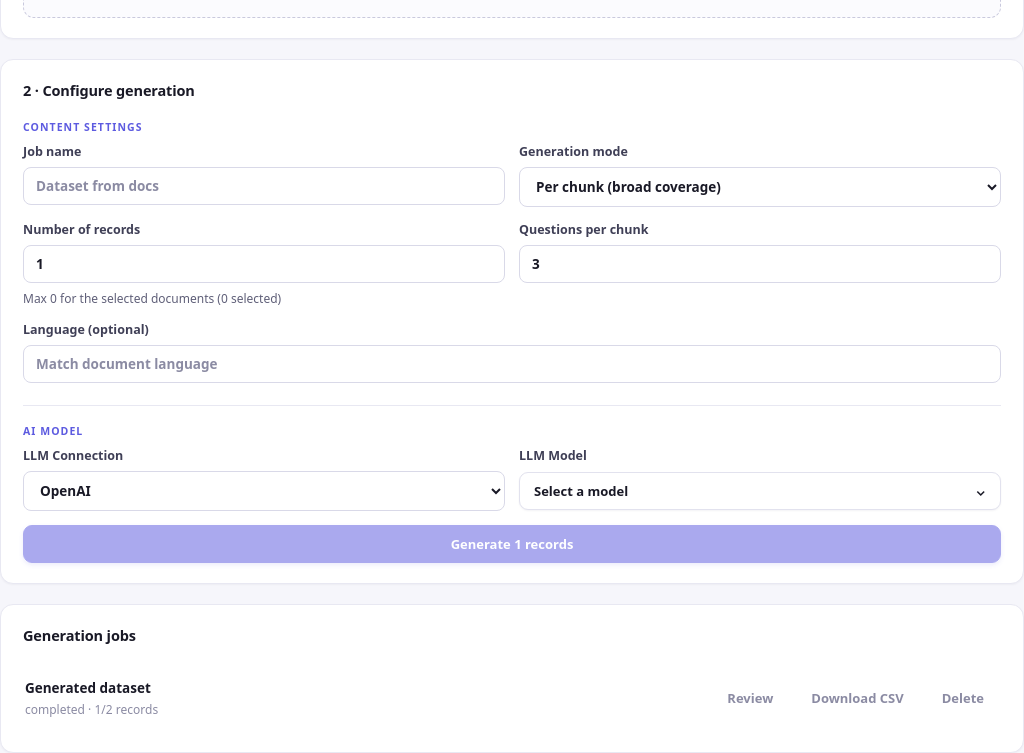
it: GenerateWizard › shows per-unit failures and accessible review controls
(page scrolled)
Click the button "Review" at (750, 699), box top-left (712, 682), bottom-right (788, 715)
(page scrolled)
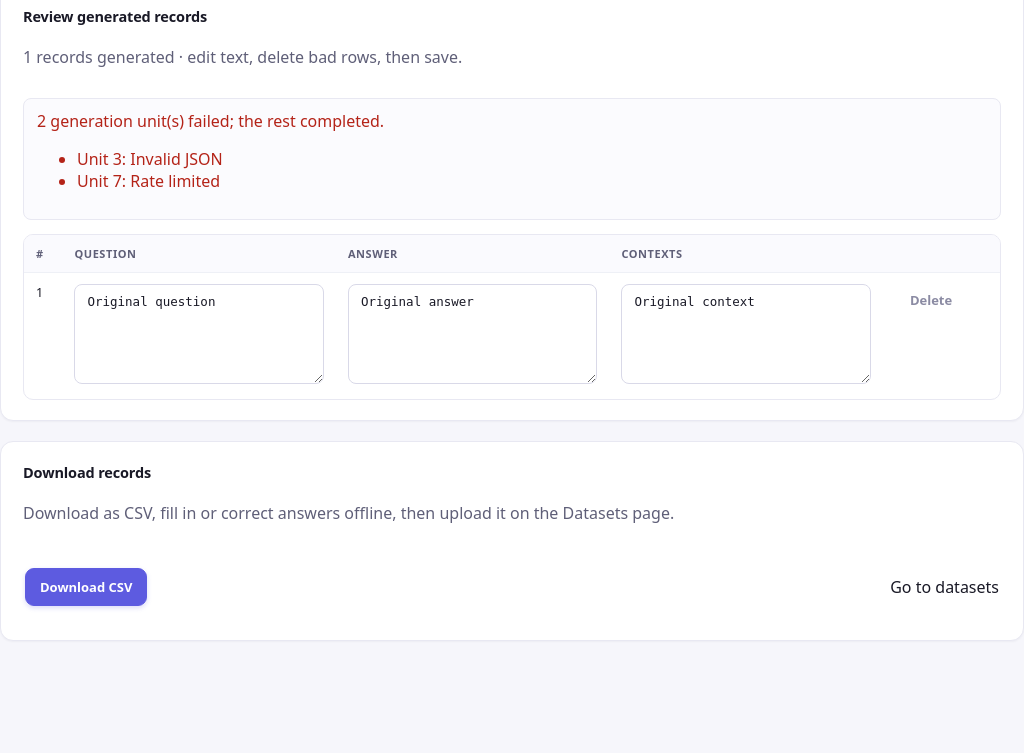
Expected: the list item "Unit 3: Invalid JSON" is shown, top-left (77, 148), bottom-right (223, 170)
Expected: the list item "Unit 7: Rate limited" is shown, top-left (77, 170), bottom-right (220, 192)
Expected: the text box named "Question 1" is shown, top-left (74, 284), bottom-right (324, 384)
